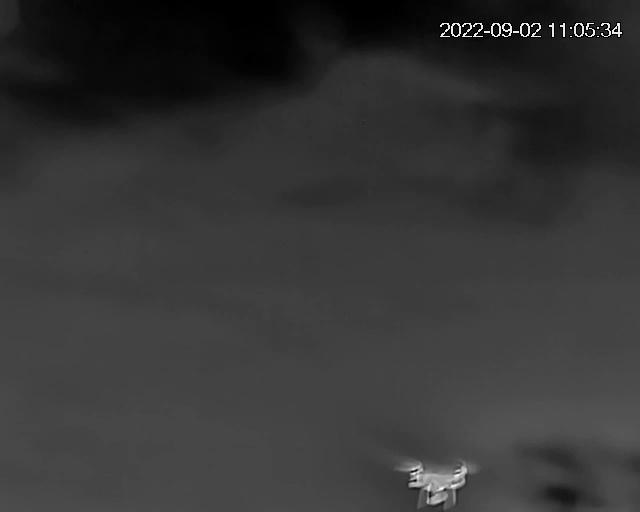DJI-Phantom: (400, 457, 481, 512)
